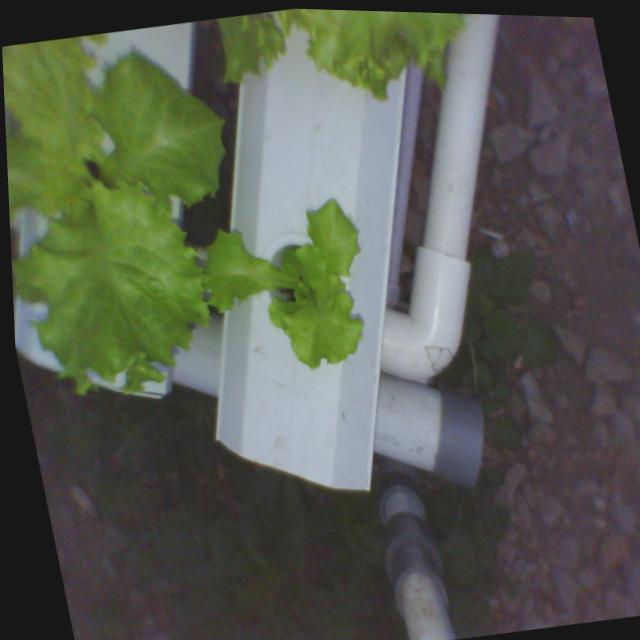FN: (1, 13, 284, 425), (180, 181, 408, 395)
